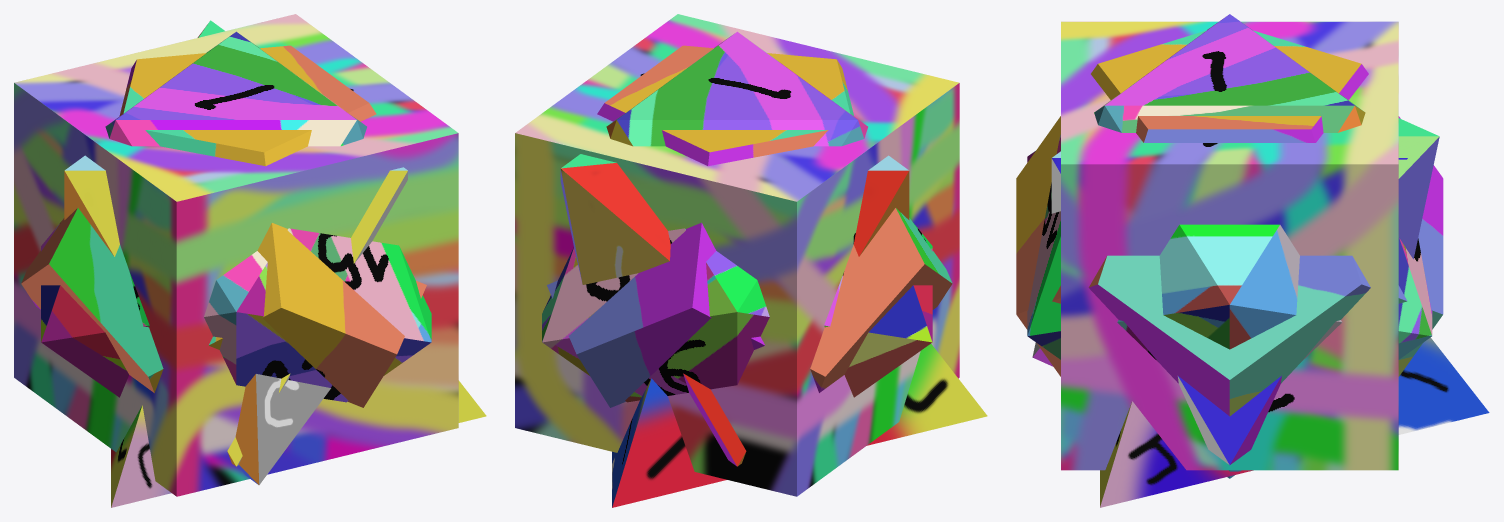
Rendered from dice.fbx.
3 views of the same model, side by side, from view 1: azimuth 30°, elevation 25°; view 2: azimuth 150°, elevation 25°; view 3: azimuth 270°, elevation 25° (orthographic). The views are drawn at different scales.
Visible parts, largest first — view 1: d6, d20, d12, d10, d8, d4; view 2: d6, d20, d12, d4, d10, d8; view 3: d6, d20, d12, d4, d8, d10.
Boxes of the visible parts, x1=… form: d6: x1=14, y1=14, x2=458, y2=496; d20: x1=41, y1=31, x2=431, y2=402; d12: x1=21, y1=45, x2=426, y2=407; d10: x1=197, y1=20, x2=330, y2=484; d8: x1=64, y1=155, x2=407, y2=466; d4: x1=111, y1=380, x2=486, y2=507; d6: x1=515, y1=14, x2=959, y2=496; d20: x1=542, y1=31, x2=932, y2=402; d12: x1=547, y1=45, x2=952, y2=407; d4: x1=612, y1=344, x2=987, y2=507; d10: x1=560, y1=154, x2=670, y2=284; d8: x1=683, y1=155, x2=909, y2=466; d6: x1=1061, y1=21, x2=1398, y2=470; d20: x1=1027, y1=14, x2=1432, y2=478; d12: x1=1016, y1=30, x2=1443, y2=416; d4: x1=1100, y1=337, x2=1489, y2=507; d8: x1=1051, y1=151, x2=1407, y2=464; d10: x1=1032, y1=118, x2=1439, y2=366.
Size of the model in its own units: 208 by 210 by 168.
